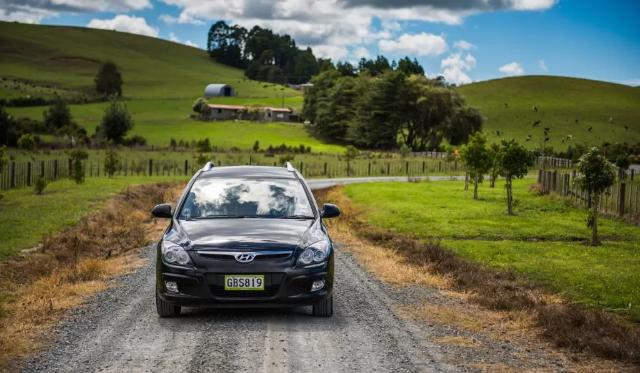Rego: (224, 274, 265, 291)
